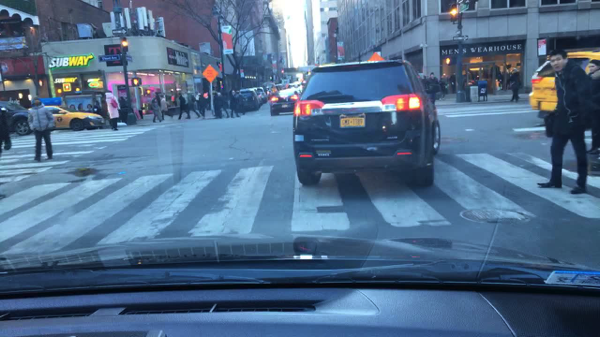car: (292, 60, 439, 186), (528, 51, 598, 127), (23, 106, 103, 131), (0, 101, 30, 136), (270, 91, 298, 115), (240, 88, 261, 112), (263, 83, 277, 97), (257, 86, 266, 102), (289, 83, 300, 90), (277, 84, 282, 91)
person: (537, 50, 597, 195), (27, 97, 57, 162), (585, 59, 598, 154), (0, 107, 11, 203), (104, 90, 122, 132), (508, 69, 520, 103), (185, 93, 199, 119), (176, 93, 188, 119), (229, 90, 240, 118), (426, 73, 437, 101), (150, 99, 162, 123), (212, 93, 223, 118), (199, 90, 207, 118), (160, 96, 169, 118), (440, 75, 447, 98), (449, 72, 456, 93), (119, 96, 127, 108), (77, 103, 85, 112), (419, 74, 425, 86), (87, 103, 93, 113), (69, 104, 75, 111), (95, 105, 100, 113)
traffic light: (445, 56, 456, 66), (450, 4, 456, 22), (131, 78, 141, 87), (123, 37, 128, 53)
traffic sign: (201, 65, 217, 83), (367, 53, 385, 62), (99, 55, 121, 62), (112, 28, 129, 35), (454, 35, 469, 42), (458, 3, 468, 11), (125, 56, 132, 62)
